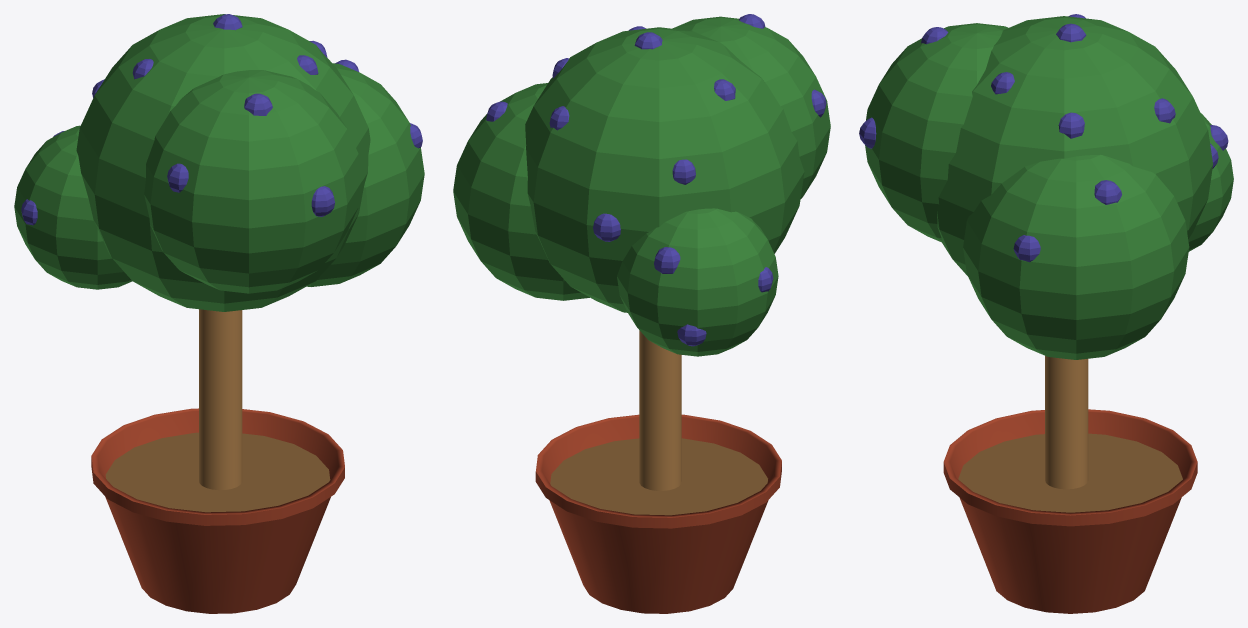
File: blue berry bush.fbx
3 views of the same model, side by side, from view 1: azimuth 30°, elevation 25°; view 2: azimuth 150°, elevation 25°; view 3: azimuth 270°, elevation 25° (orthographic). The views are drawn at different scales.
Visible parts, largest first — view 1: pCylinder4; view 2: pCylinder4; view 3: pCylinder4.
Part boxes in pixels (bbox=[...]): pCylinder4: bbox=[14, 14, 424, 613]; pCylinder4: bbox=[453, 14, 830, 613]; pCylinder4: bbox=[859, 14, 1233, 613].
Size of the model in its own units: 7.42 by 11.4 by 6.91.
